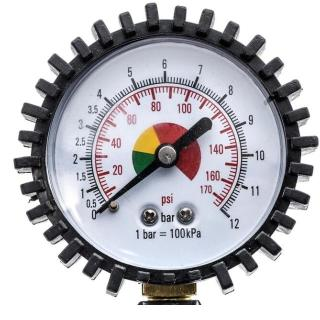gauge: (10, 1, 319, 309), (88, 191, 120, 225), (210, 199, 242, 231), (153, 142, 180, 168), (92, 205, 106, 218)
